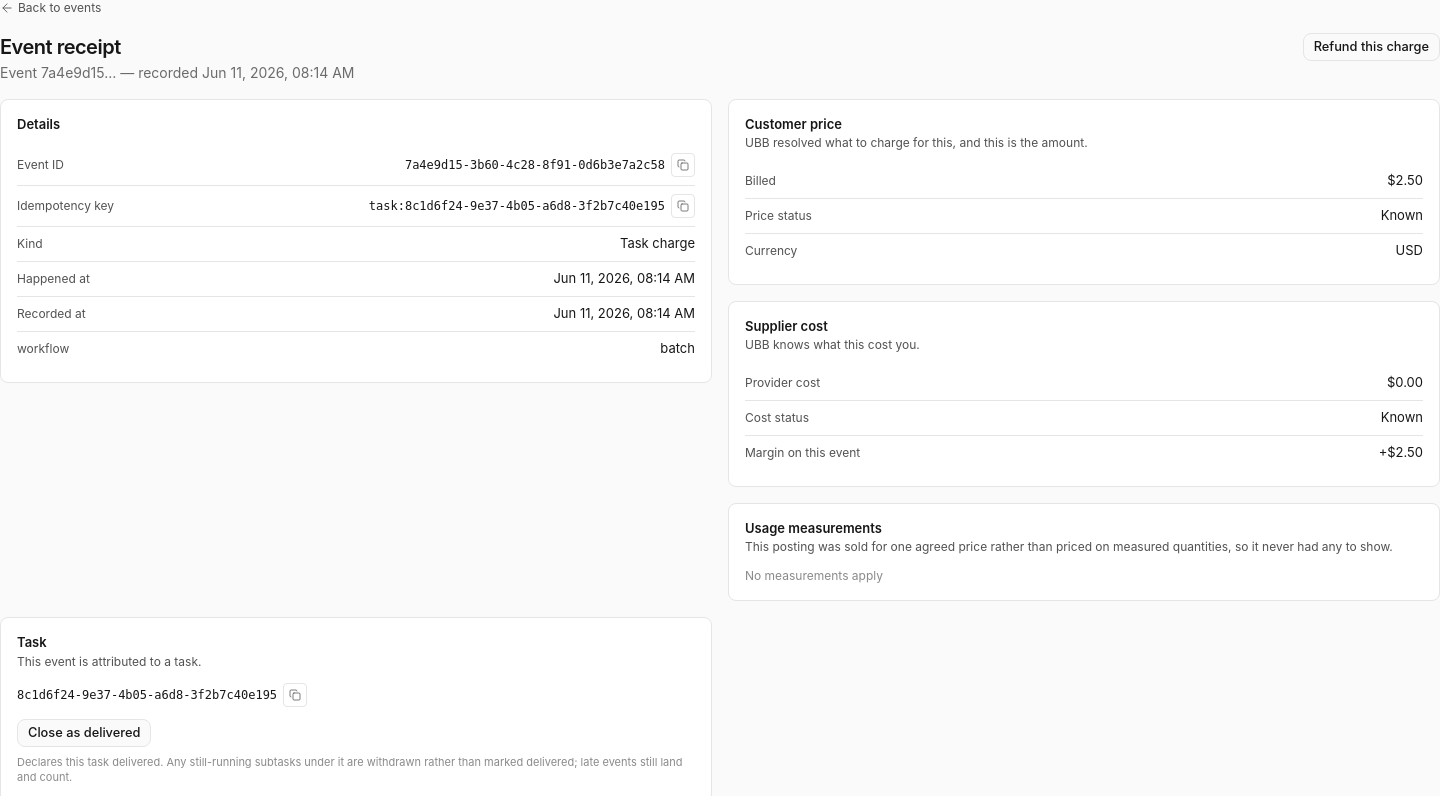
it: EventDetailPage › reads a task costed BOTH ways as complete, with no caveat
Click the button "Close as delivered" at (84, 733), box left=17, top=719, right=151, bottom=747
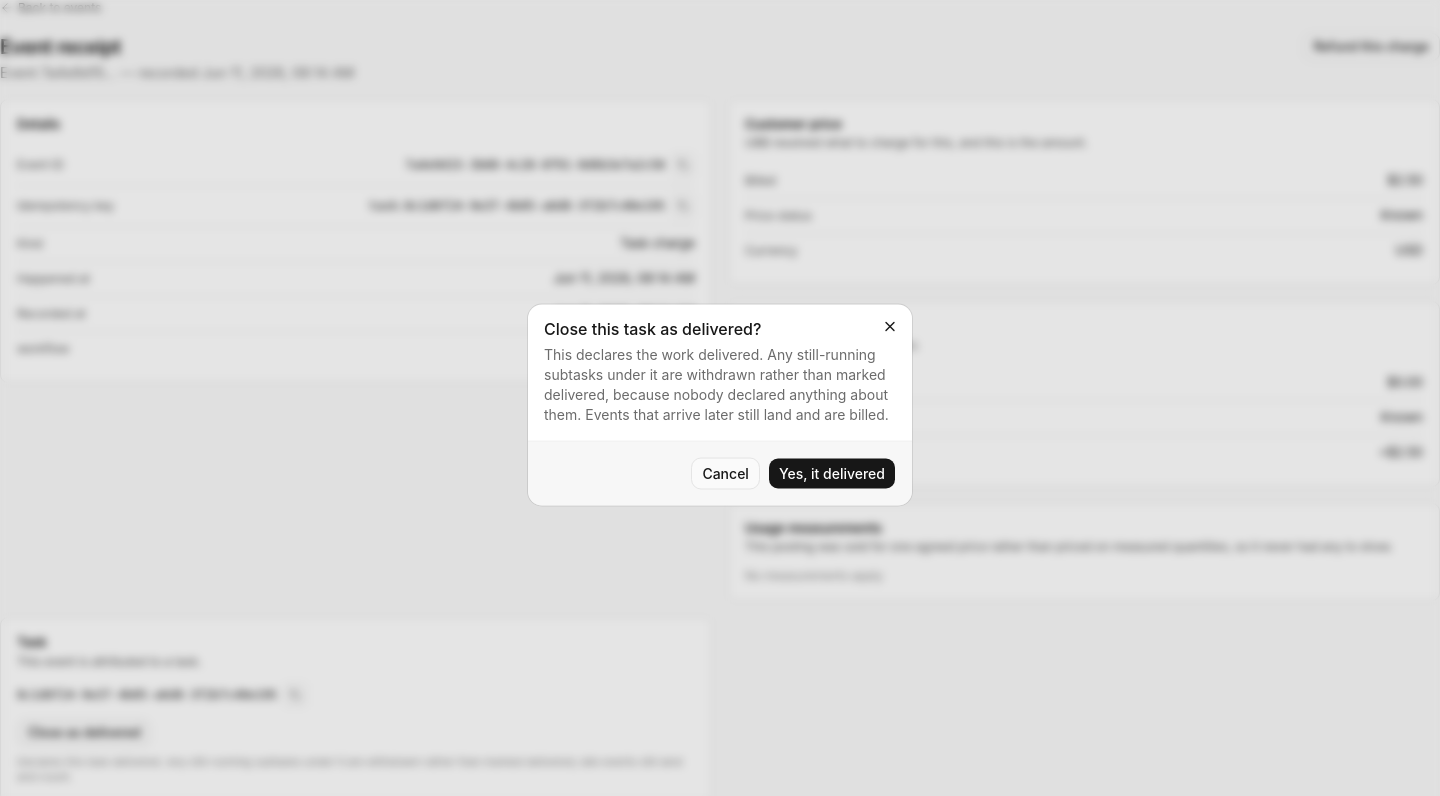
Click the button "Yes, it delivered" at (832, 474), box left=768, top=458, right=896, bottom=490
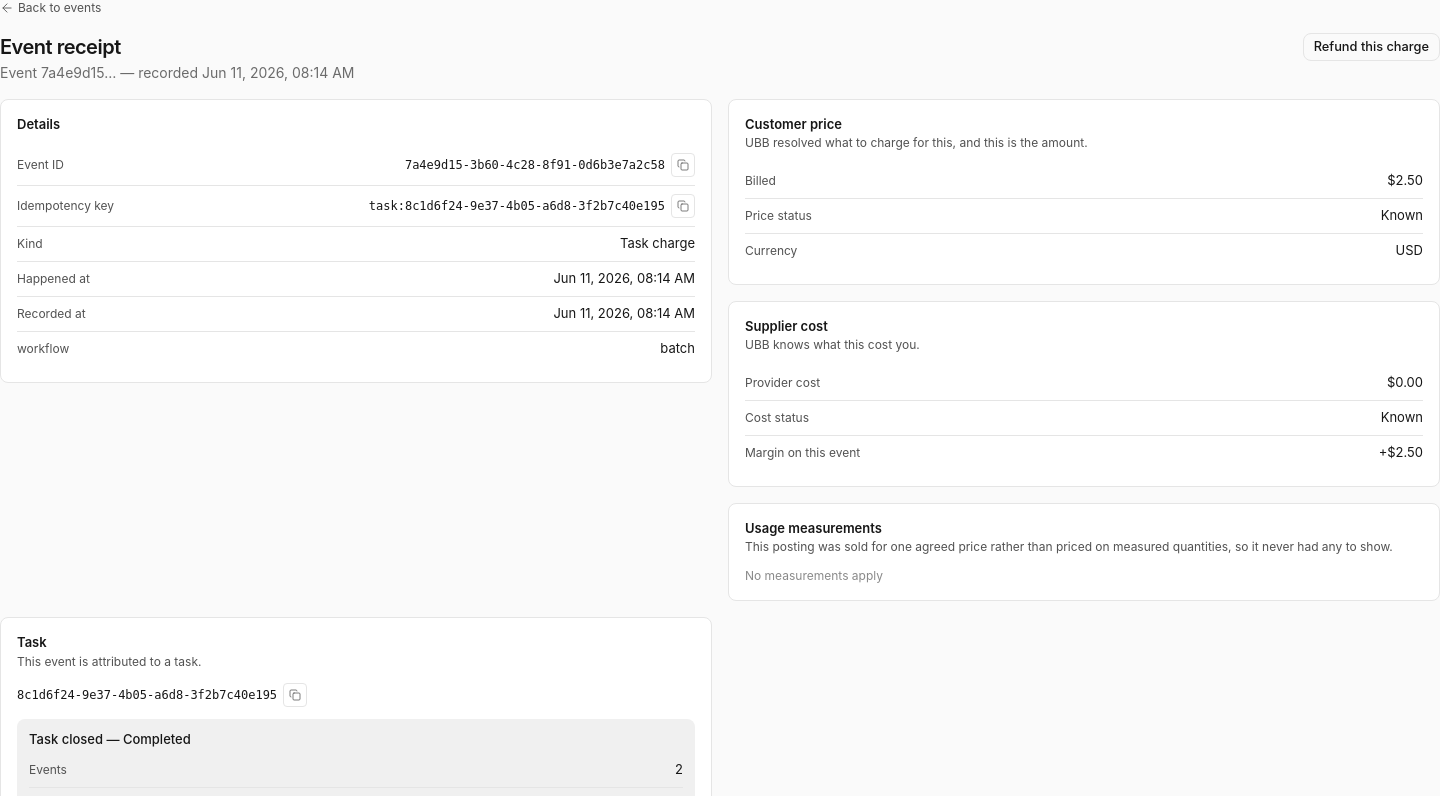
Expected: the text "Task closed — Completed" is shown, left=29, top=731, right=191, bottom=747
